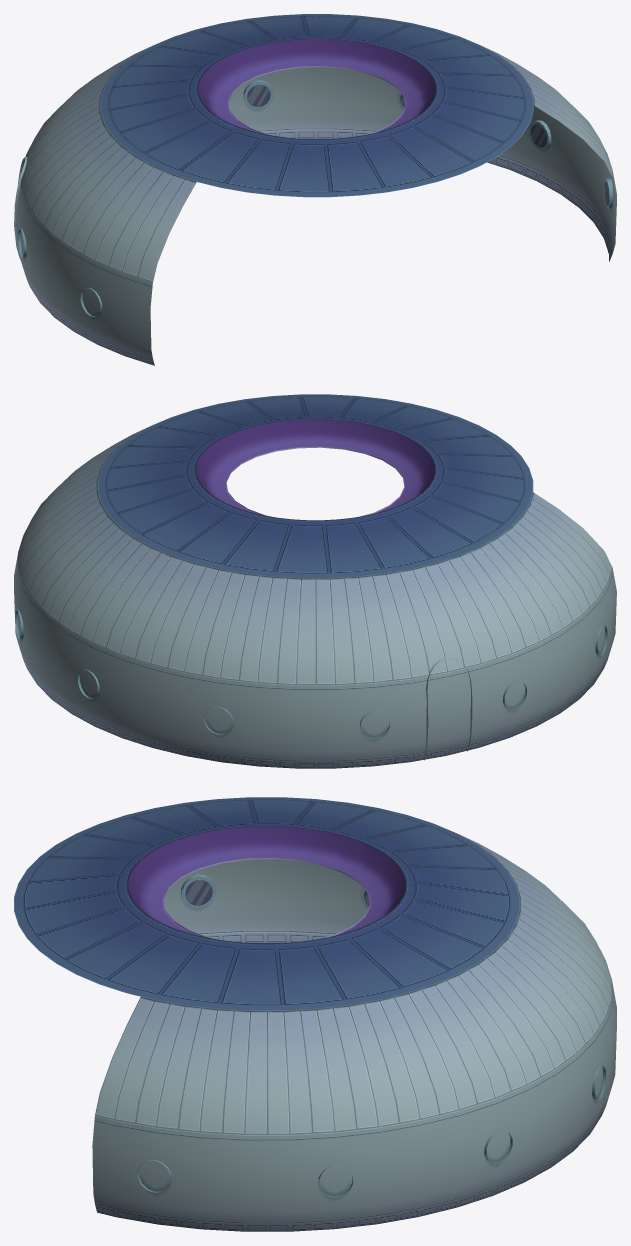
Rendered from zhonglishi_qiangmian03.FBX.
The picture shows the model from 3 angles, top to bottom: view 1: azimuth 30°, elevation 25°; view 2: azimuth 150°, elevation 25°; view 3: azimuth 270°, elevation 25°; orthographic projection. The views are drawn at different scales.
Parts seen in each view (by area): view 1: zhonglishi_qiangmian; view 2: zhonglishi_qiangmian; view 3: zhonglishi_qiangmian.
Part boxes in pixels (x1=…): zhonglishi_qiangmian: x1=14, y1=14, x2=616, y2=365; zhonglishi_qiangmian: x1=14, y1=394, x2=616, y2=768; zhonglishi_qiangmian: x1=14, y1=797, x2=616, y2=1231.
Size of the model in its own units: 1746 by 558 by 1503.
